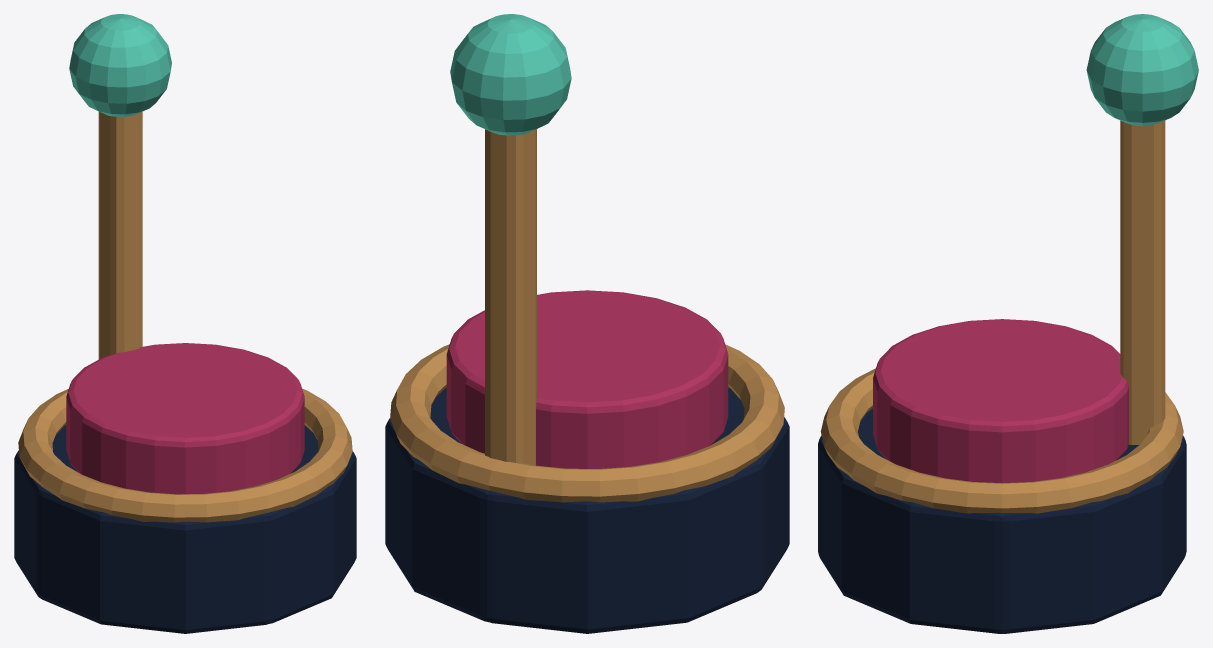
The model's file is Mission_sync_buttons.fbx.
The picture shows the model from 3 angles, left to right: view 1: azimuth 30°, elevation 25°; view 2: azimuth 150°, elevation 25°; view 3: azimuth 270°, elevation 25°; orthographic projection. The views are drawn at different scales.
Parts seen in each view (by area): view 1: Mission_sync_buttons.Mesh, Mission_sync_buttons.SyncButton; view 2: Mission_sync_buttons.Mesh, Mission_sync_buttons.SyncButton; view 3: Mission_sync_buttons.Mesh, Mission_sync_buttons.SyncButton.
Boxes of the visible parts, bbox=[...] form: Mission_sync_buttons.Mesh: bbox=[14, 14, 356, 633]; Mission_sync_buttons.SyncButton: bbox=[66, 343, 304, 494]; Mission_sync_buttons.Mesh: bbox=[385, 14, 789, 633]; Mission_sync_buttons.SyncButton: bbox=[446, 290, 728, 468]; Mission_sync_buttons.Mesh: bbox=[818, 14, 1198, 633]; Mission_sync_buttons.SyncButton: bbox=[873, 319, 1128, 483].
Size of the model in its own units: 65.58 by 106 by 67.79.
